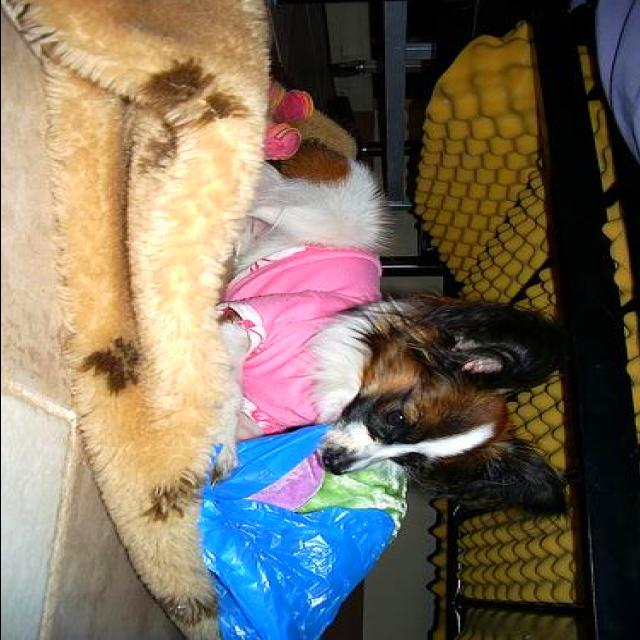papillon: (212, 148, 566, 516)
